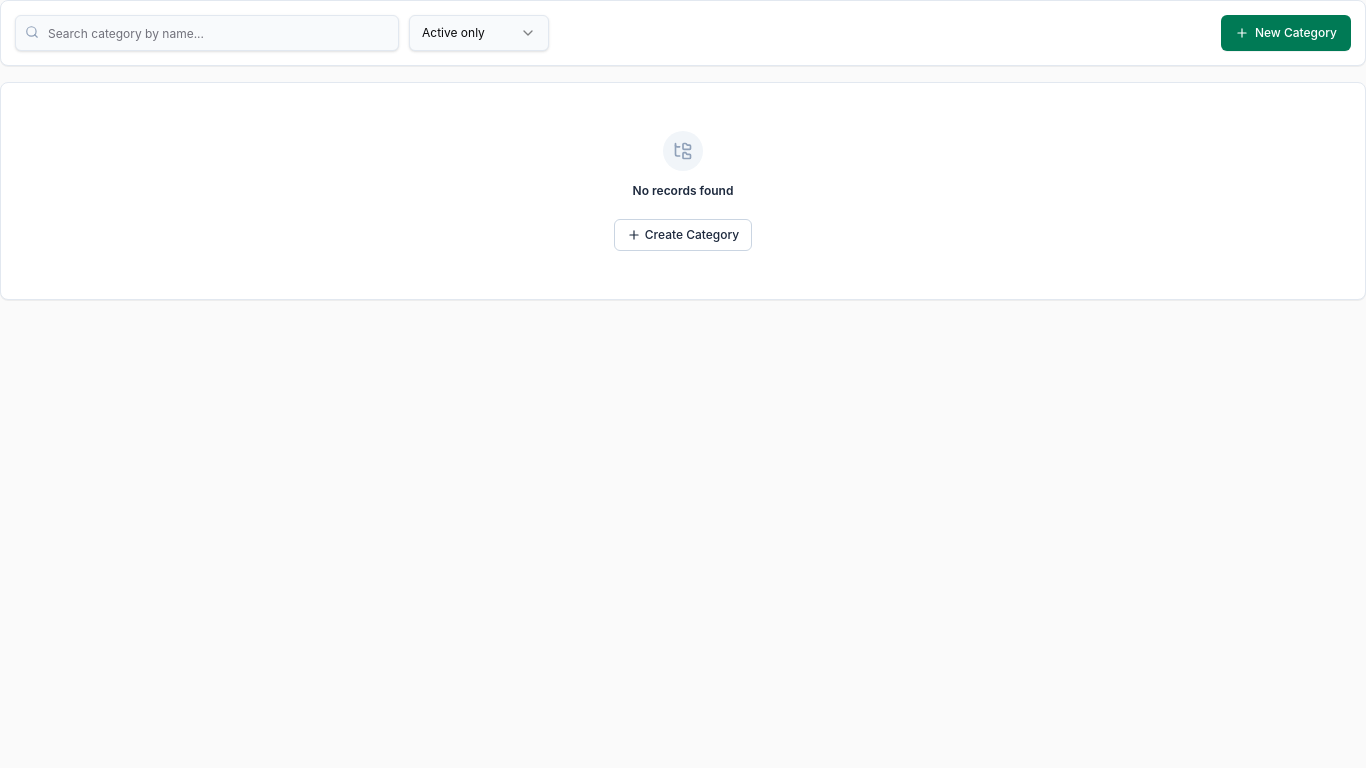
Test: Category Management Component Tests › allows ADMIN to create a new category and handles duplicate name error
This screenshot has width=1366, height=768.
Step 1. Click the button "New Category" → [1286, 33], box [1221,15,1351,51]
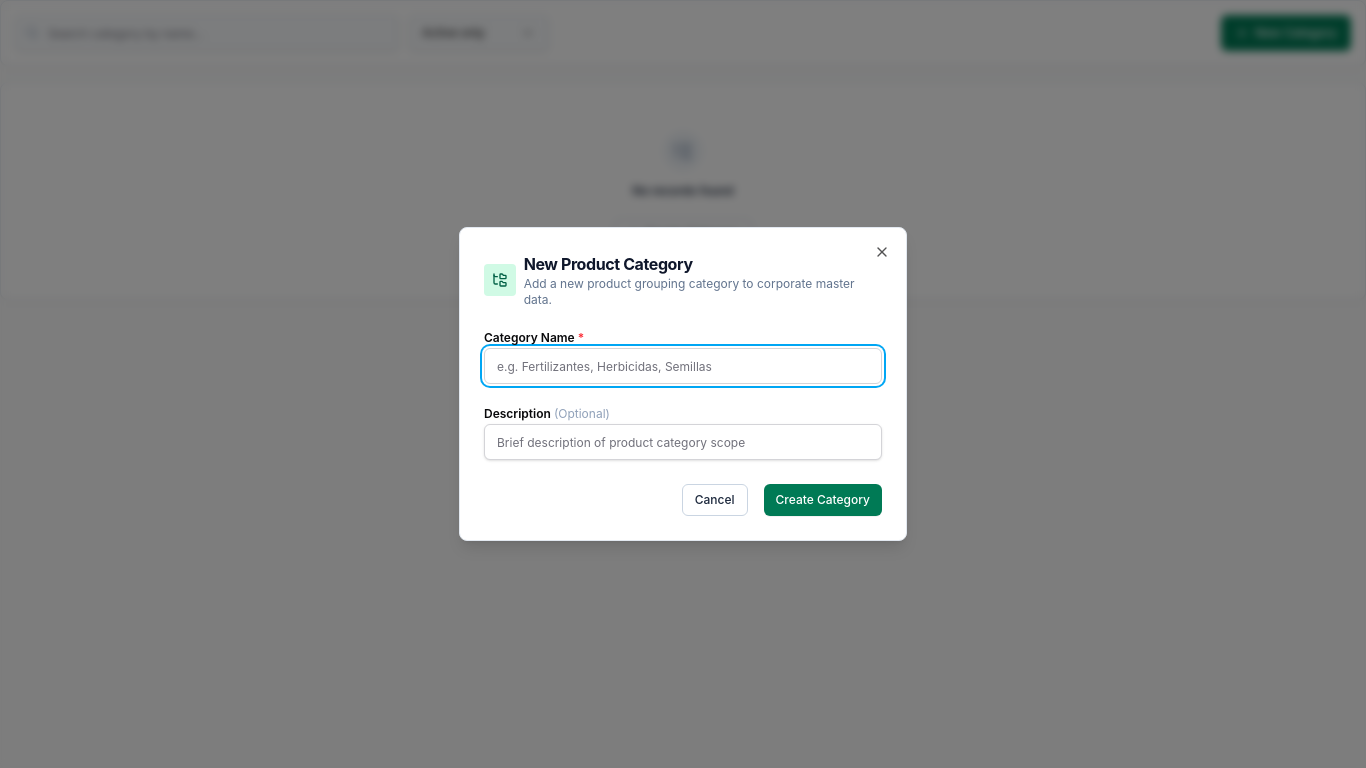
Check: the heading "New Product Category" is shown, box [524,254,693,274]
Step 2. Type "Fertilizantes" into the field labelled "Category Name *" → [683, 366], box [484,348,882,384]
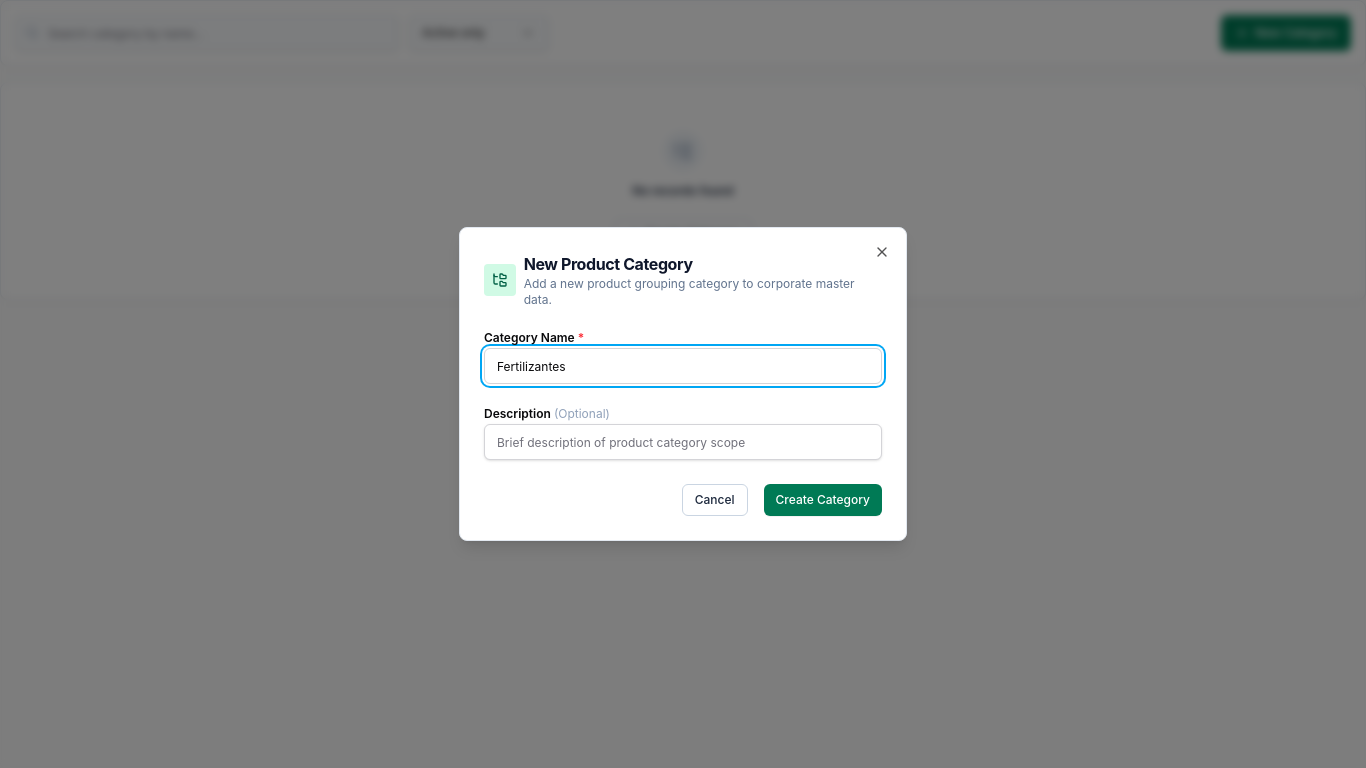
Step 3. Click the button "Create Category" → [823, 500], box [764,484,882,516]
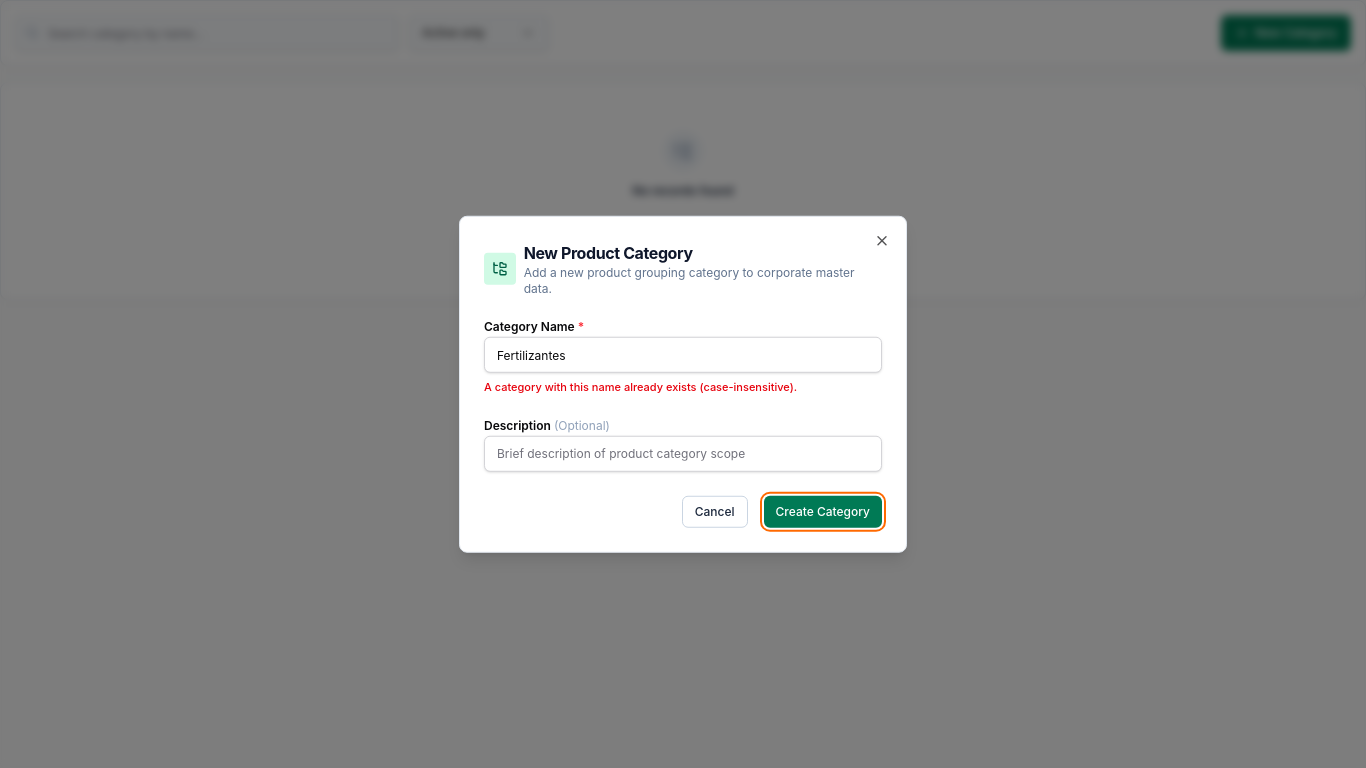
Check: the text "A category with this name already exists (case-insensitive)." is shown, box [484,380,797,394]
